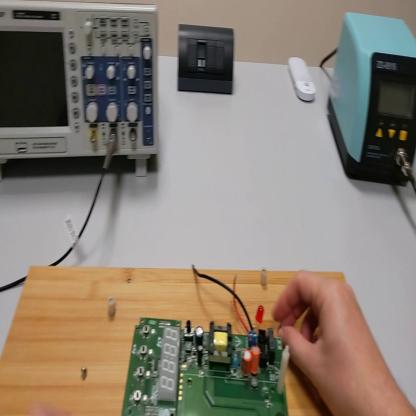hand: (274, 269, 388, 415)
low voltage board: (125, 264, 294, 416)
oscilloscope: (2, 4, 159, 185)
welder station: (329, 14, 414, 184)
working area: (2, 268, 346, 413)
